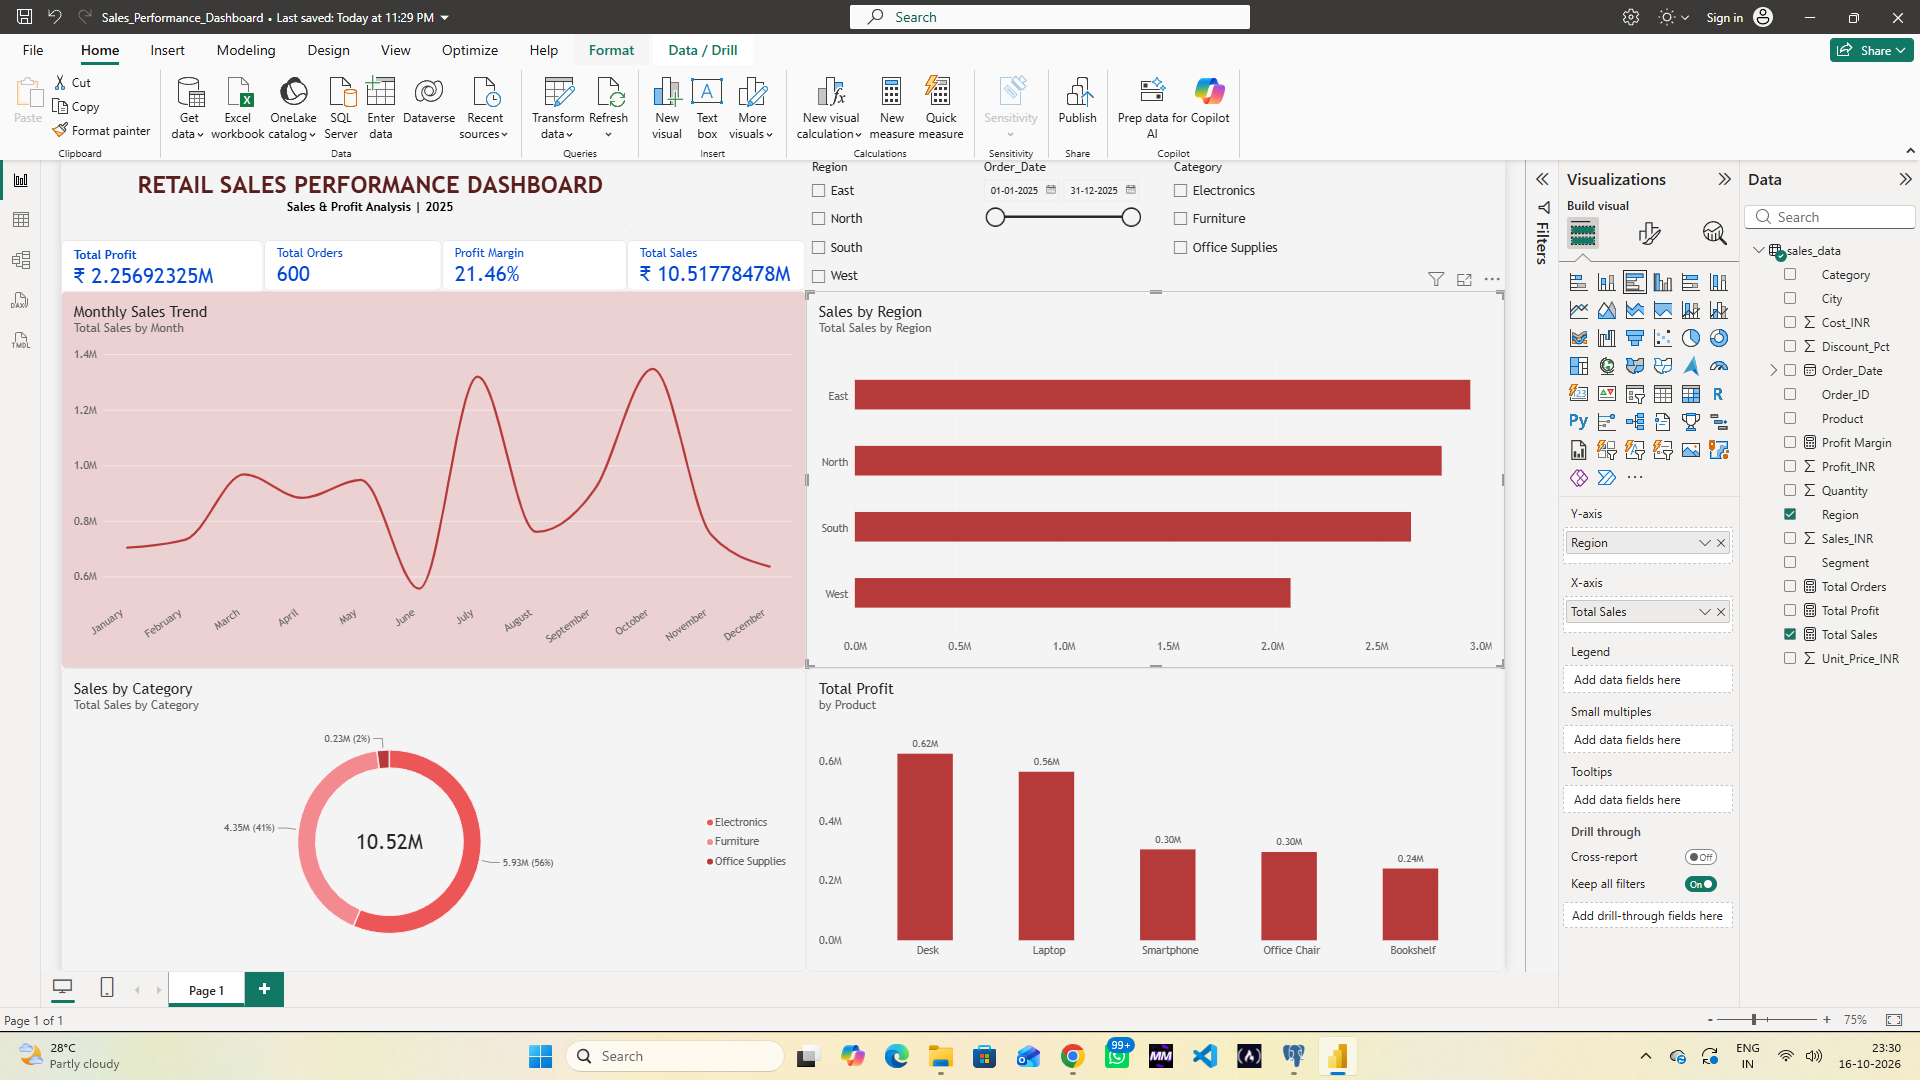

What the dashboard file says about the page in this screenshot:
{"tool":"powerbi","page":{"name":"Page 1","canvas":[1920,1080],"ordinal":0},"visuals":[{"type":"cardVisual","fields":{"Data":["sales_data.Total Sales"]},"box":[752.8,106.5,237.8,67.1],"z":0},{"type":"cardVisual","fields":{"Data":["sales_data.Total Profit"]},"box":[0,106.5,269.9,72.9],"z":1},{"type":"cardVisual","fields":{"Data":["sales_data.Total Orders"]},"box":[269.9,106.5,236.4,67.1],"z":2},{"type":"cardVisual","fields":{"Data":["sales_data.Profit Margin"]},"box":[506.3,106.5,246.6,67.1],"z":3},{"type":"lineChart","title":"Monthly Sales Trend","fields":{"Category":["sales_data.Order_Date.Variation.Date Hierarchy.Month"],"Y":["sales_data.Total Sales"]},"box":[0,173.6,990.6,501.9],"z":4},{"type":"clusteredBarChart","title":"Sales by Region","fields":{"Category":["sales_data.Region"],"Y":["sales_data.Total Sales"]},"box":[990.6,173.6,929.4,501.9],"z":5},{"type":"donutChart","title":"Sales by Category","fields":{"Category":["sales_data.Category"],"Y":["sales_data.Total Sales"]},"box":[0,675.5,990.6,404.1],"z":6},{"type":"clusteredColumnChart","fields":{"Category":["sales_data.Product"],"Y":["sales_data.Total Profit"]},"box":[990.6,675.5,929.4,404.1],"z":7},{"type":"slicer","fields":{"Values":["sales_data.Region"]},"box":[990.6,0,229.1,173.6],"z":9},{"type":"slicer","fields":{"Values":["sales_data.Category"]},"box":[1472.1,0,170.7,173.6],"z":10},{"type":"slicer","fields":{"Values":["sales_data.Order_Date"]},"box":[1219.7,0,220.3,173.6],"z":11},{"type":"textbox","box":[1662,0,258,174],"z":12},{"type":"textbox","title":"RETAIL SALES PERFORMANCE DASHBOARD","box":[68.6,13.1,684.3,74.4],"z":13}]}

Visuals, with their boxes on the page's 1920x1080 design canvas (x1, y1, x2, y2). These are canvas units, not pixel positions in the 1920x1080 screenshot, which may show the page scaled, cropped or inside an application window:
cardVisual - sales_data.Total Sales: <box>753,106,991,174</box>
cardVisual - sales_data.Total Profit: <box>0,106,270,179</box>
cardVisual - sales_data.Total Orders: <box>270,106,506,174</box>
cardVisual - sales_data.Profit Margin: <box>506,106,753,174</box>
"Monthly Sales Trend" lineChart: <box>0,174,991,676</box>
"Sales by Region" clusteredBarChart: <box>991,174,1920,676</box>
"Sales by Category" donutChart: <box>0,676,991,1080</box>
clusteredColumnChart - sales_data.Product x sales_data.Total Profit: <box>991,676,1920,1080</box>
slicer - sales_data.Region: <box>991,0,1220,174</box>
slicer - sales_data.Category: <box>1472,0,1643,174</box>
slicer - sales_data.Order_Date: <box>1220,0,1440,174</box>
textbox: <box>1662,0,1920,174</box>
"RETAIL SALES PERFORMANCE DASHBOARD" textbox: <box>69,13,753,88</box>
